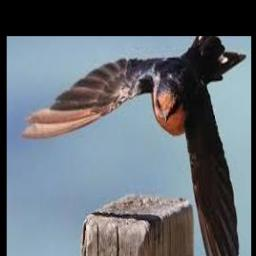Swallow: (22, 36, 246, 256)
